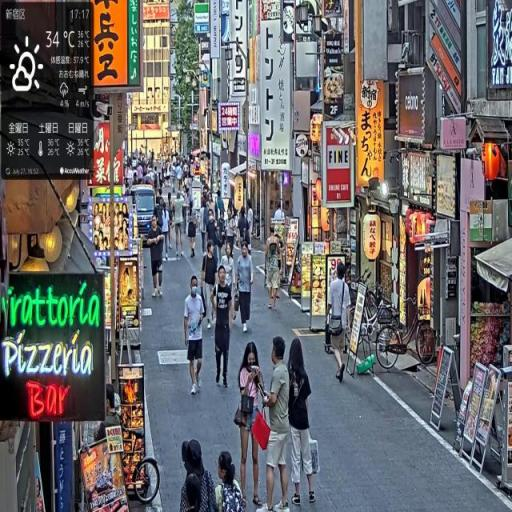person: (235, 341, 271, 512), (257, 336, 291, 512), (287, 335, 317, 510), (327, 262, 355, 384), (211, 263, 236, 392), (180, 438, 221, 512), (184, 276, 207, 399), (216, 450, 248, 512), (236, 241, 256, 335), (201, 240, 219, 330), (265, 228, 284, 313), (148, 216, 166, 300)
